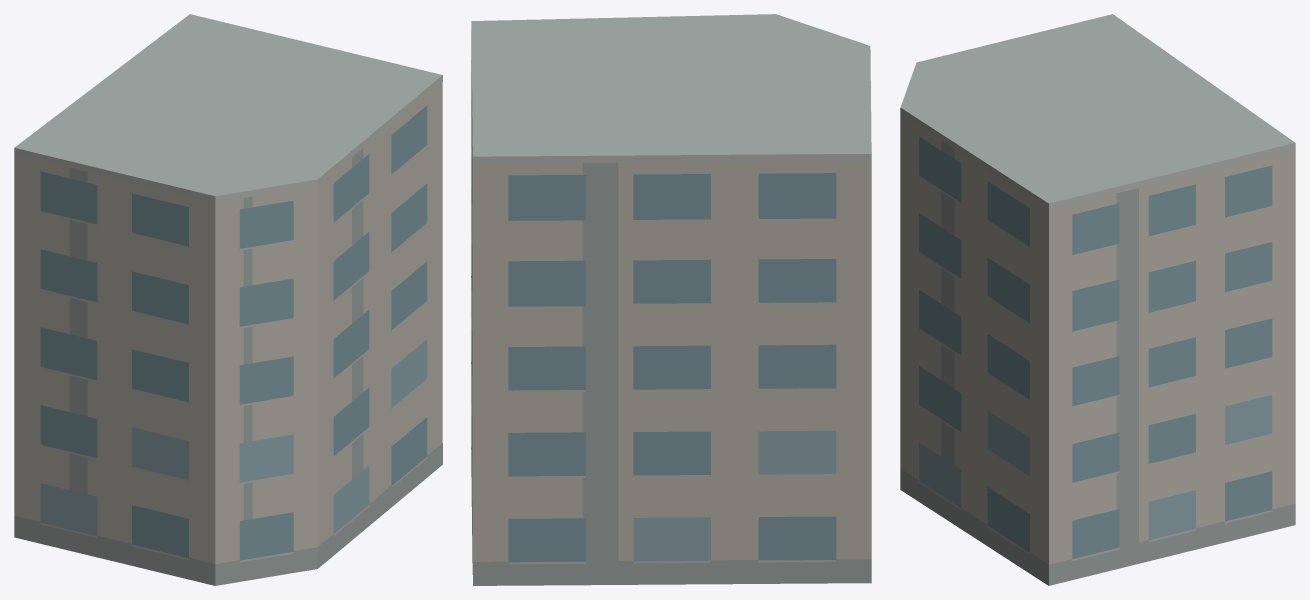
File: survey-upis-32528229.glb
3 views of the same model, side by side, from view 1: azimuth 30°, elevation 25°; view 2: azimuth 150°, elevation 25°; view 3: azimuth 270°, elevation 25° (orthographic). The views are drawn at different scales.
Visible parts, largest first — view 1: survey-upis-32528229.tmp; view 2: survey-upis-32528229.tmp; view 3: survey-upis-32528229.tmp.
Boxes of the visible parts, <box> form: survey-upis-32528229.tmp: <box>14,14,442,585</box>; survey-upis-32528229.tmp: <box>471,14,871,585</box>; survey-upis-32528229.tmp: <box>900,14,1295,585</box>.
Bounding box in the file's own units: 15.43 × 14.5 × 13.59.
